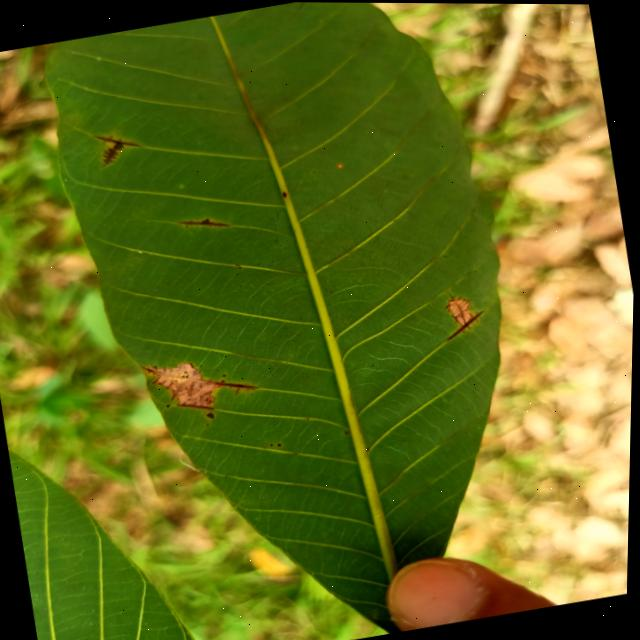Corynespora: (440, 285, 490, 339), (94, 129, 145, 168), (181, 212, 231, 234), (214, 374, 258, 398), (178, 397, 215, 415), (143, 362, 157, 374)
Leaf-Blight: (153, 356, 223, 414)
